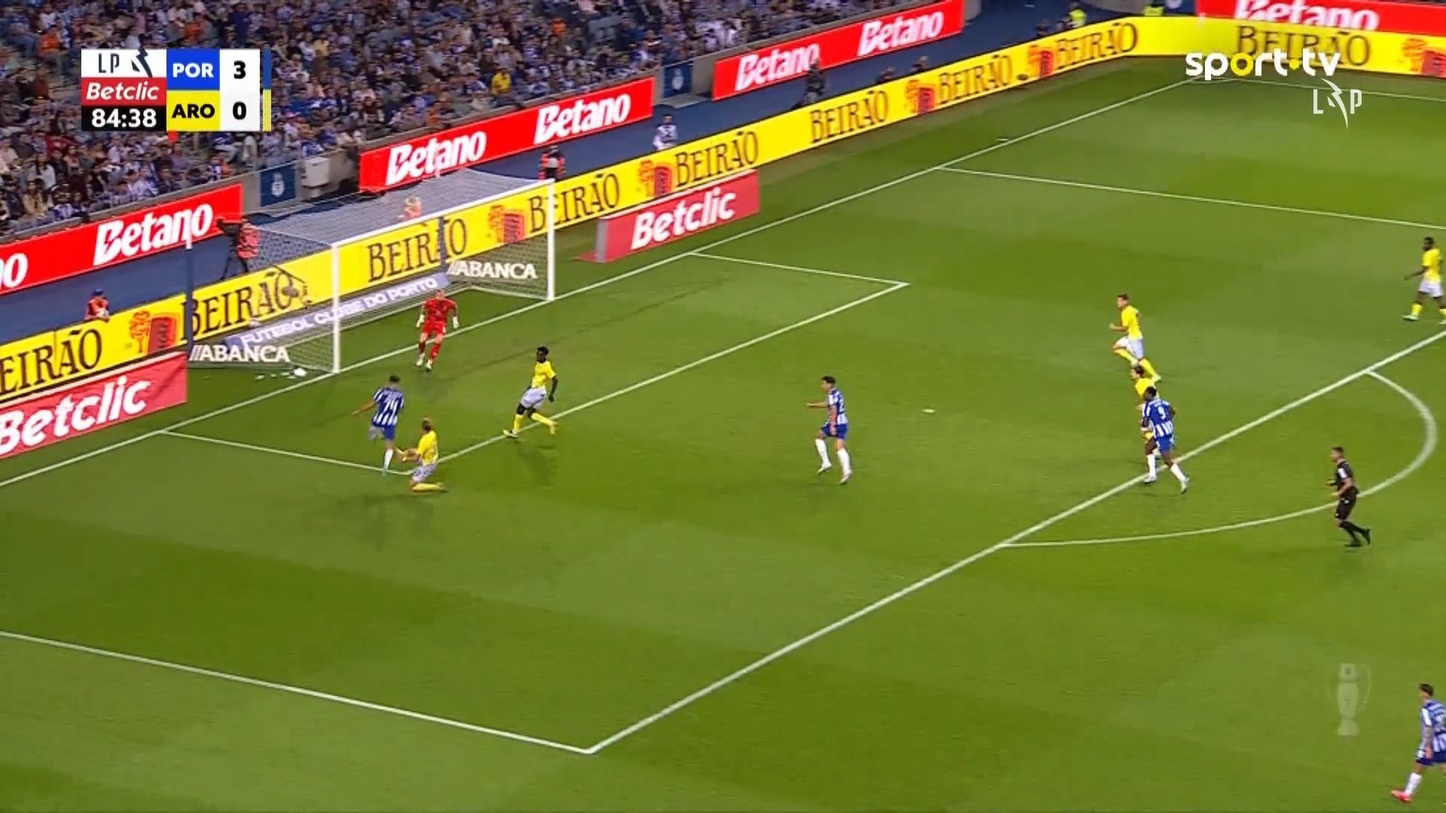goalkeeper: (413, 287, 461, 373)
player: (1389, 680, 1446, 805), (1138, 385, 1191, 496), (501, 346, 560, 442), (352, 374, 405, 476), (806, 373, 852, 486), (1108, 292, 1165, 382), (395, 419, 449, 494), (1403, 234, 1446, 327), (1127, 364, 1167, 455)
referee: (1324, 446, 1374, 548)
